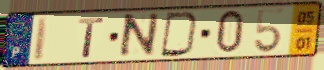0: (214, 8, 248, 57)
5: (252, 6, 290, 55)
D: (158, 11, 201, 59)
I: (32, 16, 51, 63)
N: (116, 11, 162, 61)
T: (76, 16, 105, 60)
